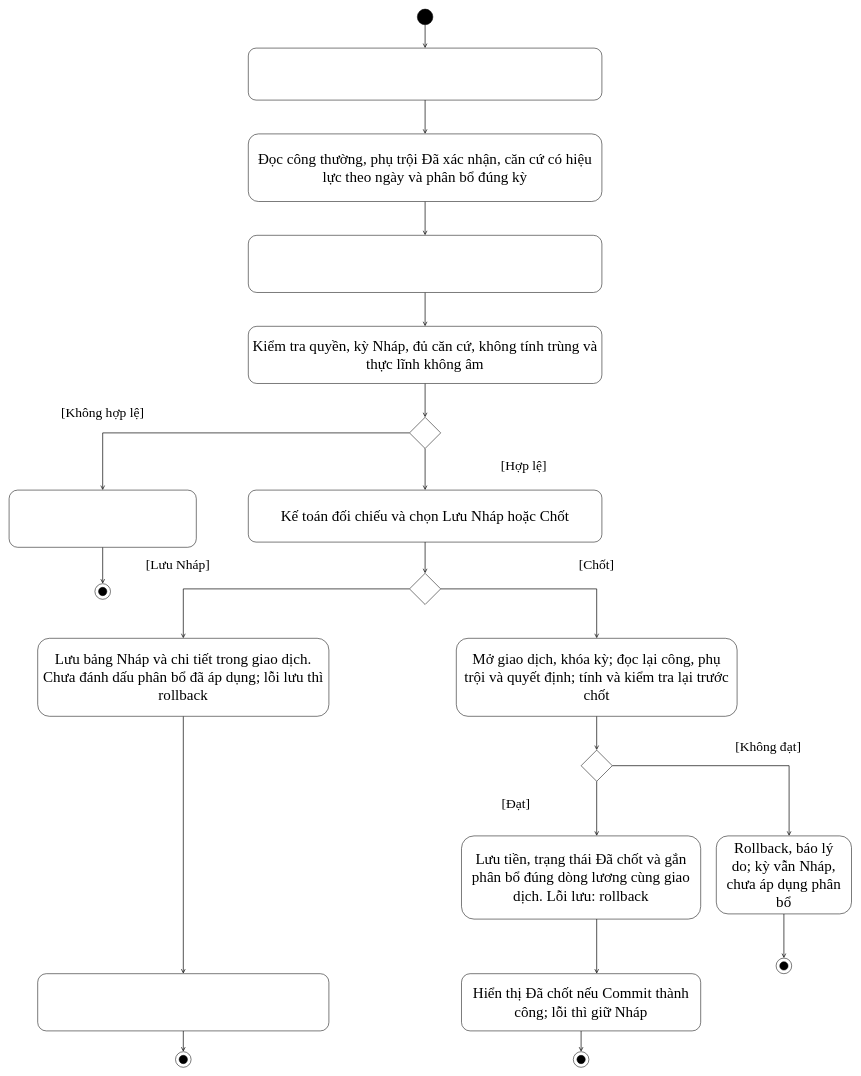
Some shapes in this 861 by 1076 pixel diagram are drawn without their labels. The centre of each missing label's shape, as x and y in pixels:
"Báo lý do; chưa lưu, yêu cầu sửa dữ liệu" goes at pixel 102 518.
"Hiển thị kết quả hoặc lỗi lưu; Nháp được phép tính lại" goes at pixel 183 1002.
"Kế toán chọn kỳ, giờ chuẩn tháng và bảng Nháp" goes at pixel 425 74.
"Tính công, phụ trội 1,5, phụ cấp, BHXH, BHYT, thưởng phạt và thực lĩnh" goes at pixel 425 263.
